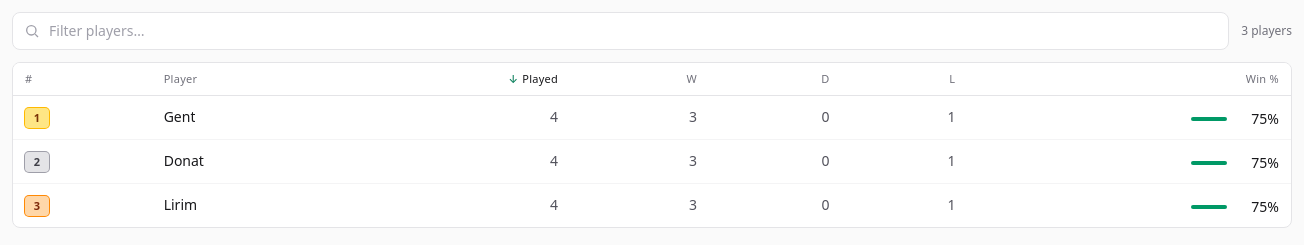
Test: Leaderboard › filters rows by search input
The image size is (1304, 245).
Type "Don" into the search field with test id "leaderboard-search" at (621, 31), box [12,12,1229,50]
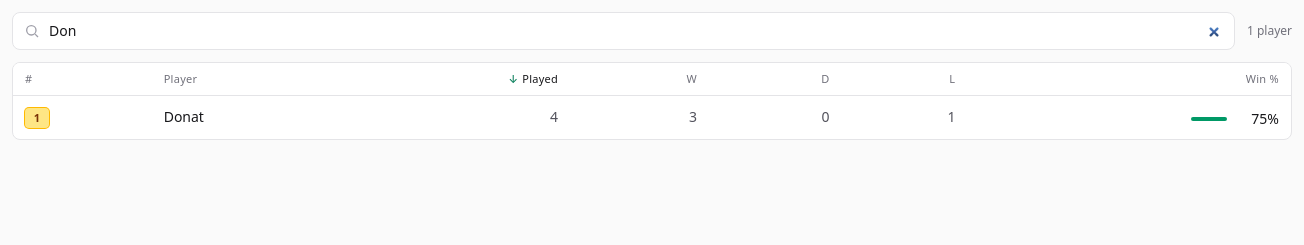
expect the text "Donat" is shown: met, box [164,107,204,127]
expect the number of rows with test id "leaderboard-row" is 1: met, box [13,95,1291,139]
